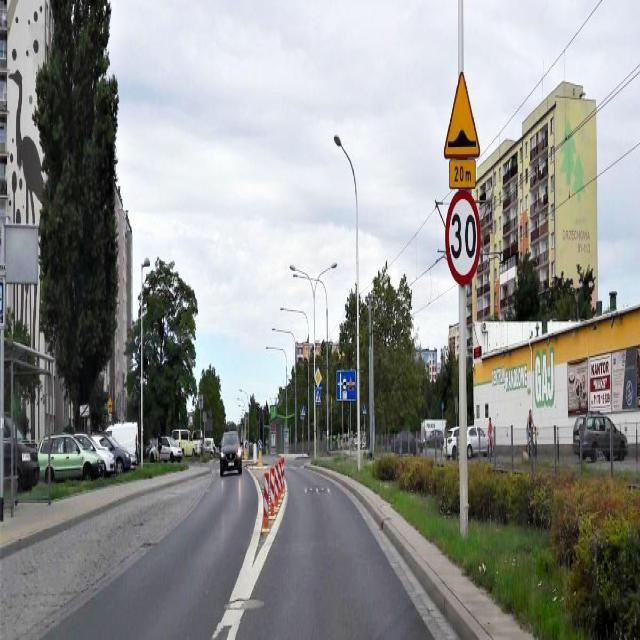Speed Limit -30-: (450, 212, 476, 259)
